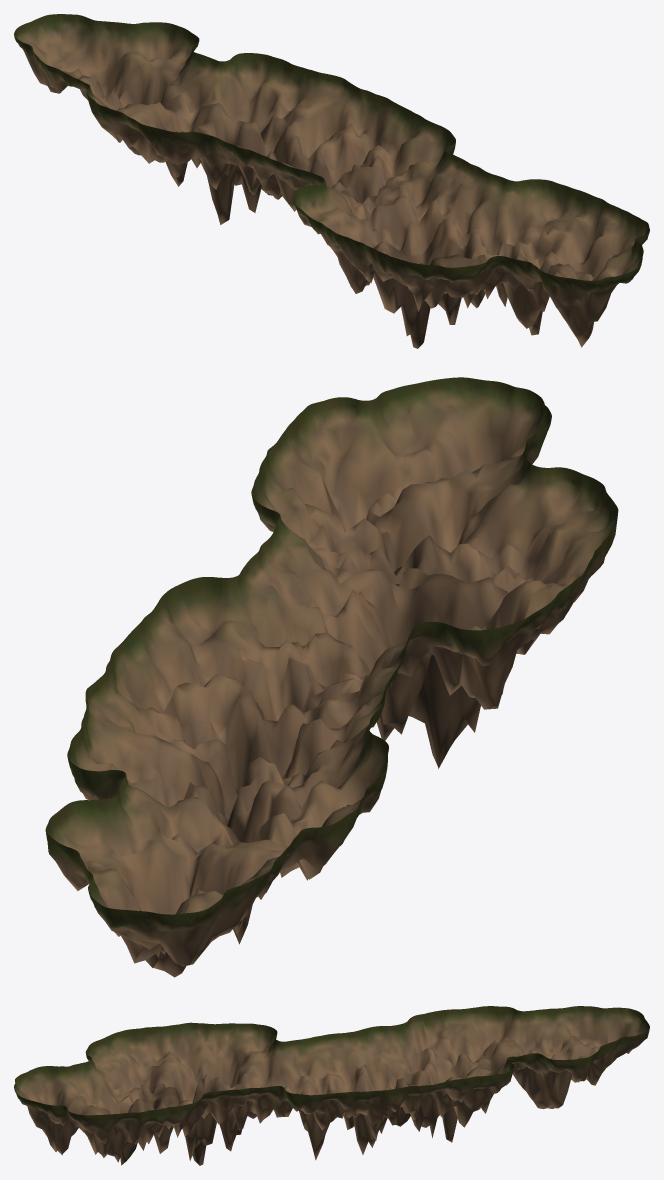
Rendered from SM_H04_IslandRock.fbx.
3 views of the same model, one above another, from view 1: azimuth 30°, elevation 25°; view 2: azimuth 150°, elevation 25°; view 3: azimuth 270°, elevation 25° (orthographic). The views are drawn at different scales.
Parts seen in each view (by area): view 1: SM_H04_IslandRock; view 2: SM_H04_IslandRock; view 3: SM_H04_IslandRock.
Boxes of the visible parts, left/top/right/bottom form: SM_H04_IslandRock: left=14, top=14, right=649, bottom=348; SM_H04_IslandRock: left=45, top=377, right=618, bottom=977; SM_H04_IslandRock: left=14, top=1006, right=649, bottom=1165.
Bounding box in the file's own units: 216 × 101 × 530.
